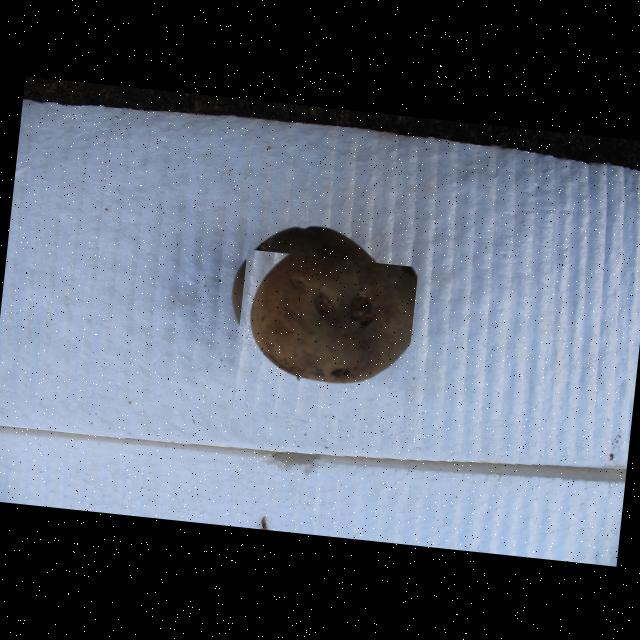Diseased-fungal potato: (230, 248, 418, 425)
